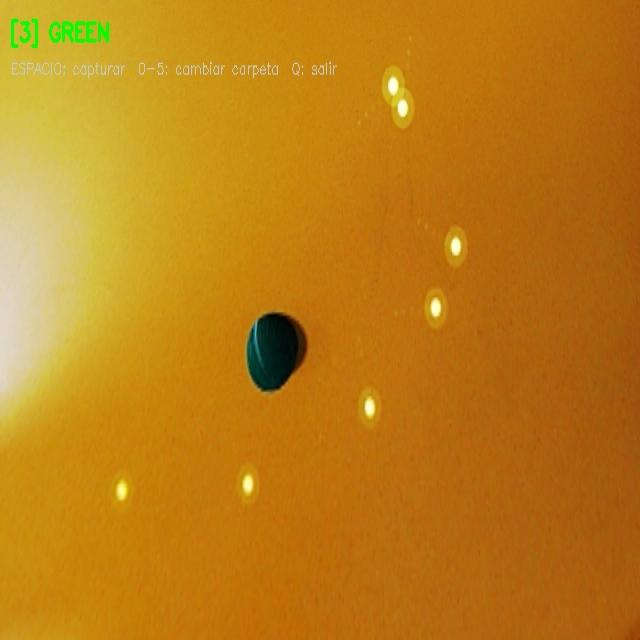green: (245, 307, 304, 400)
